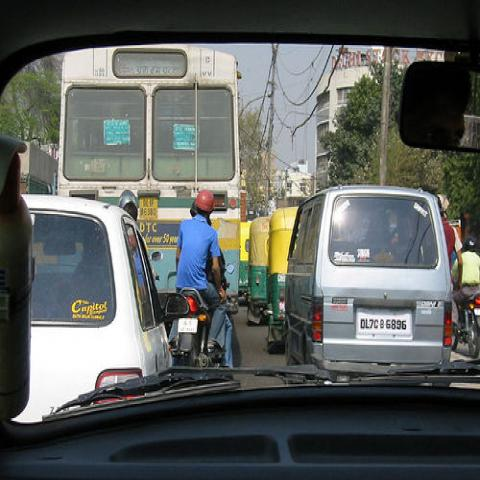bus: (59, 41, 240, 318)
car: (14, 194, 190, 422), (284, 186, 454, 375), (268, 205, 299, 344), (246, 217, 269, 324)
motorcycle: (175, 246, 236, 367), (453, 288, 479, 360)
